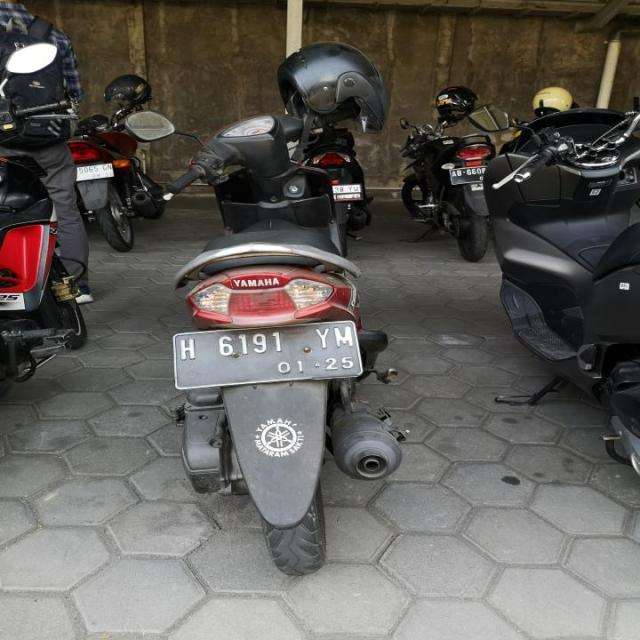License Plate: (170, 318, 365, 390), (449, 165, 487, 186), (75, 162, 114, 182)
